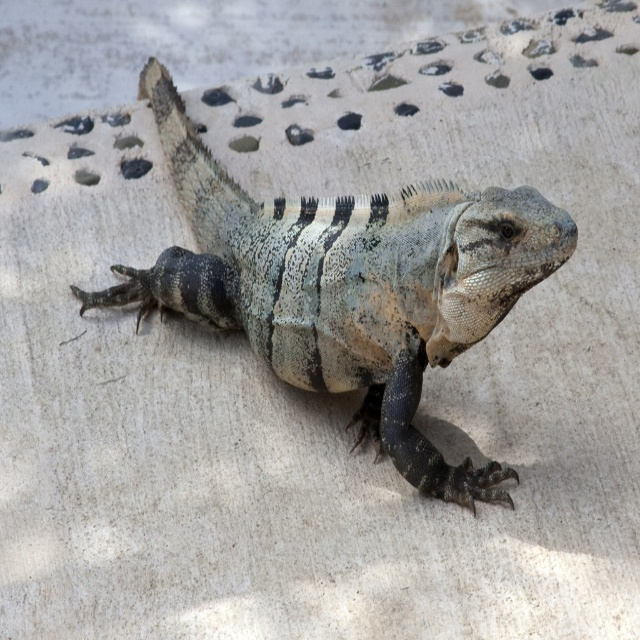Lizard: (68, 49, 576, 479)
